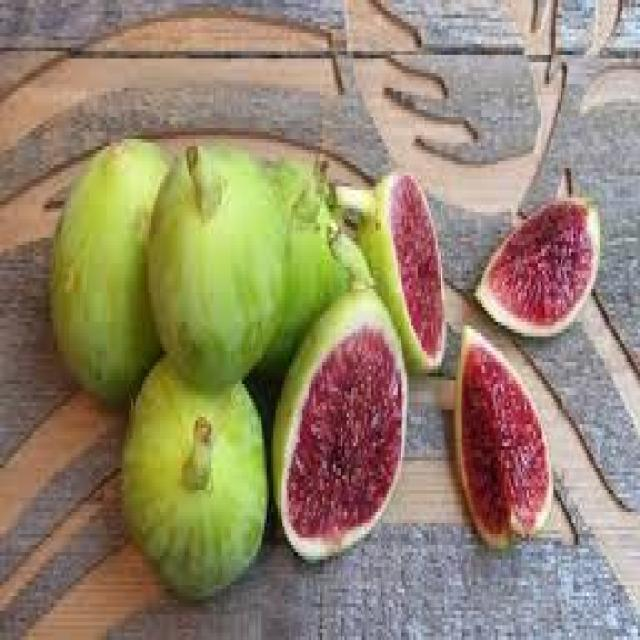biodegradable: (267, 278, 407, 563), (118, 347, 267, 600), (147, 135, 287, 384), (47, 136, 171, 403), (255, 158, 369, 381), (453, 318, 551, 549), (334, 169, 445, 370), (471, 190, 598, 333)
